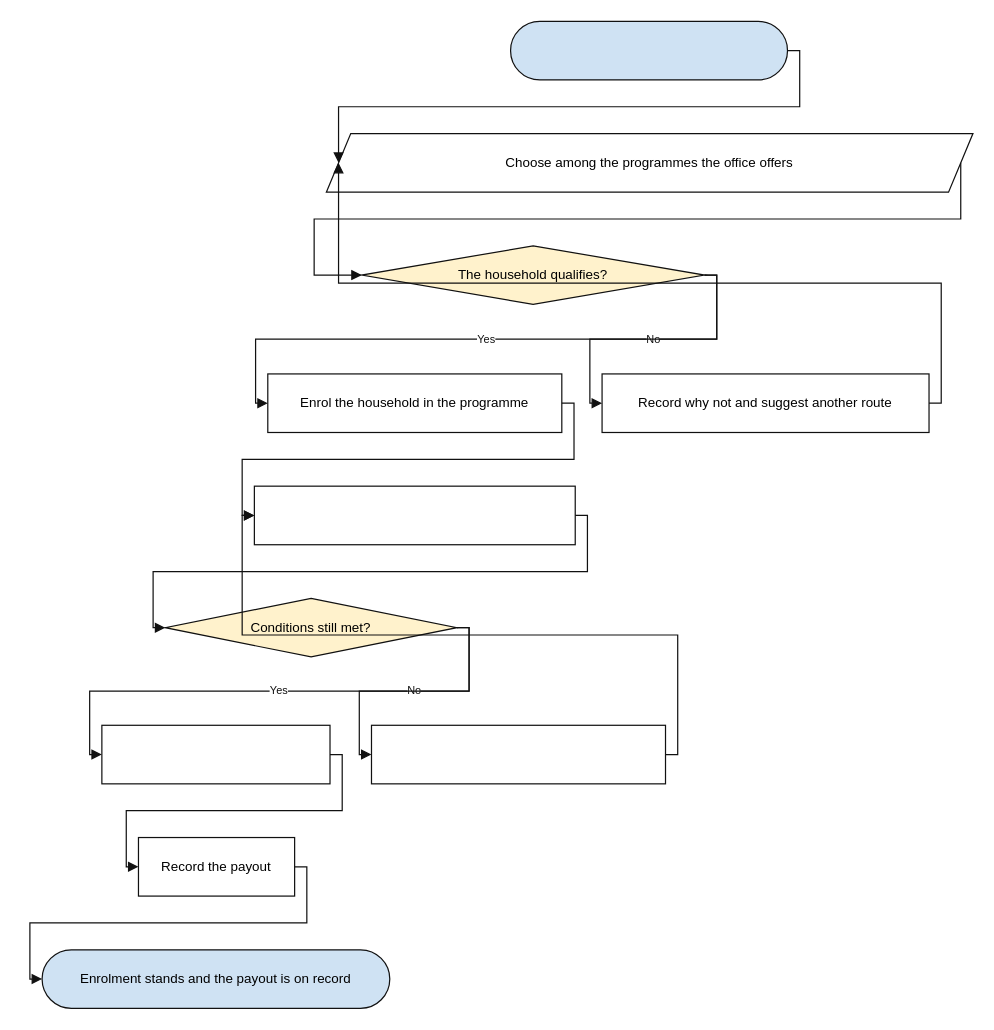
The diagram is 994 pixels wide and 1030 high, and some of its shapes have lost their labels. The shapes that lost their labels are listed below. From the top down, each one's centre as x and y in pixels, then its label:
the point at 648,50: An active case needs a programme
the point at 414,515: Watch the conditions the programme sets
the point at 215,754: Prepare the payout schedule
the point at 518,754: Remind the family and set a follow-up
